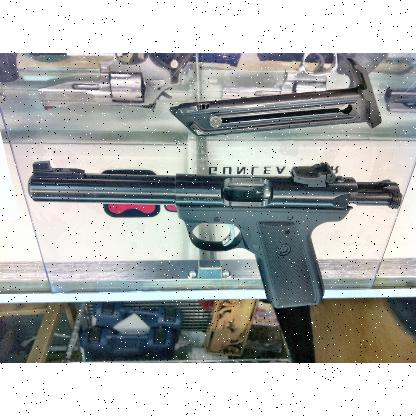gun: (28, 159, 402, 307), (25, 160, 398, 308)
